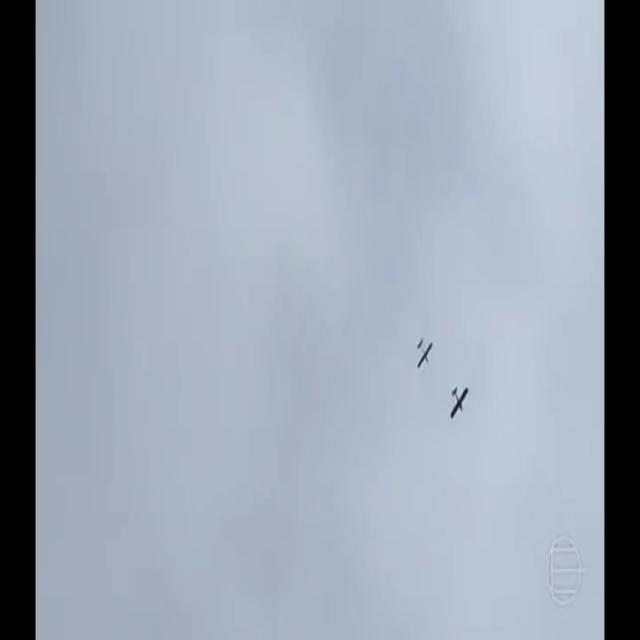iha: (444, 384, 462, 422), (416, 335, 433, 374)
